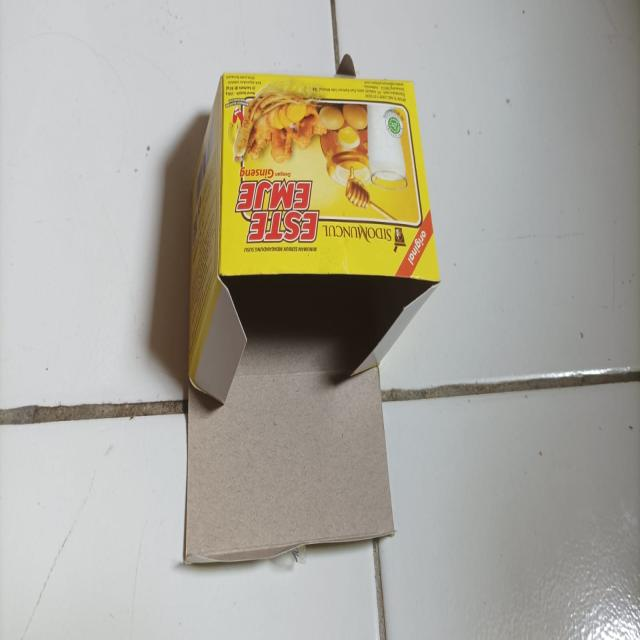Organik: (187, 76, 439, 558)
